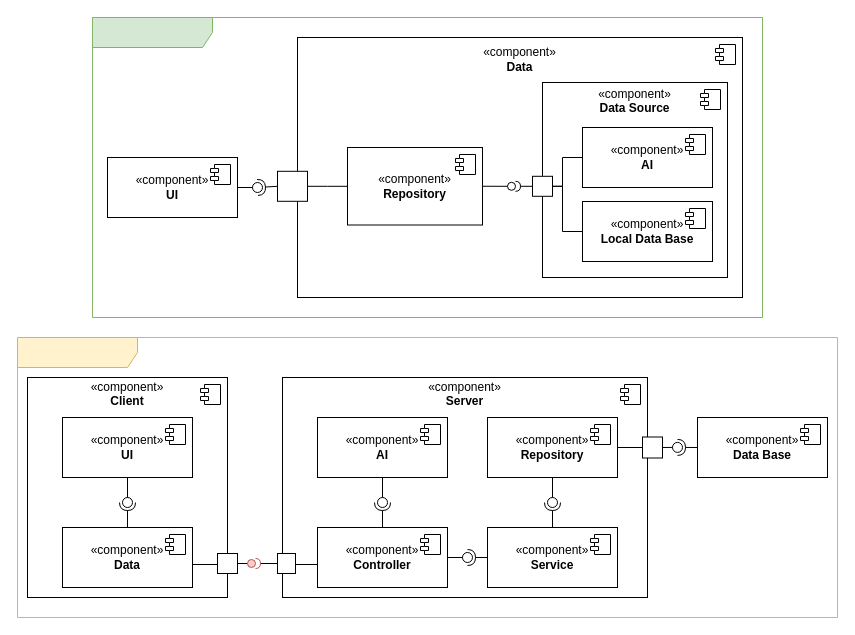
This 855x635 diagram has some shape labels left out. Each missing label, with the centre of its shape:
Client-Server App: [427,477]
Monolith App: [427,167]
